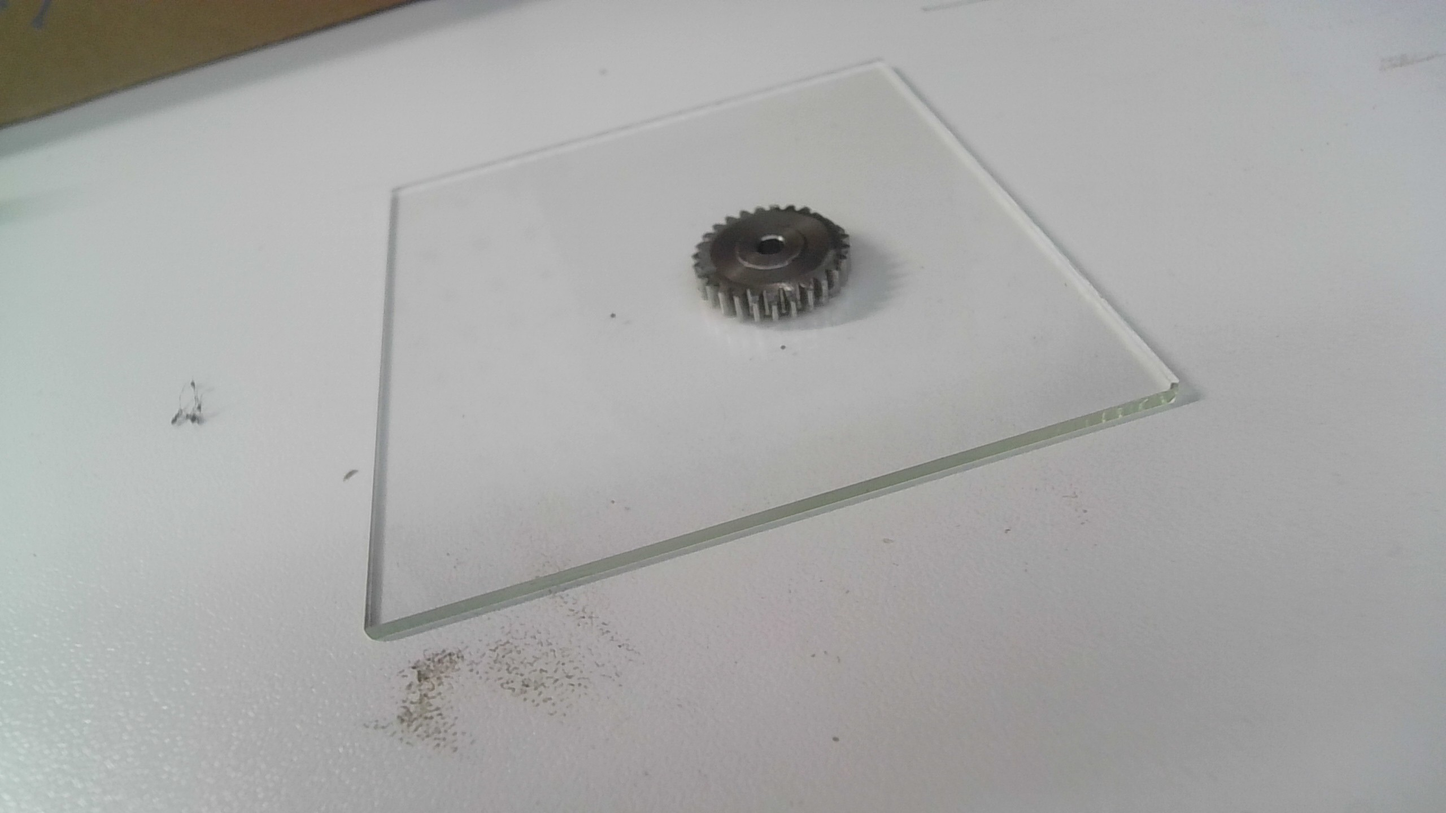gear: (689, 203, 853, 326)
